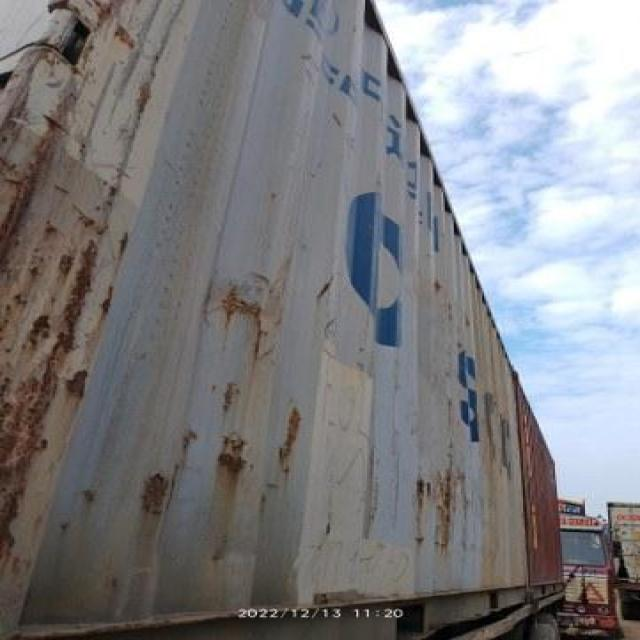rust: (7, 20, 133, 558), (212, 277, 283, 349), (276, 405, 317, 469), (219, 428, 260, 481), (148, 472, 178, 521)
